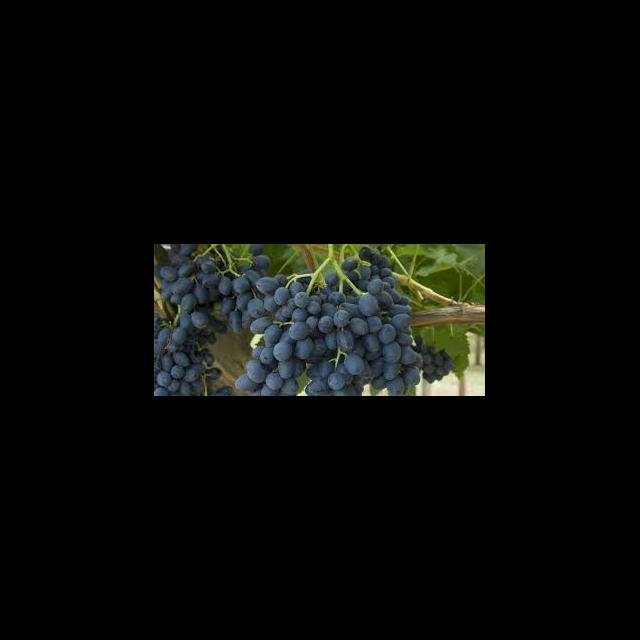grape: (154, 244, 454, 395)
